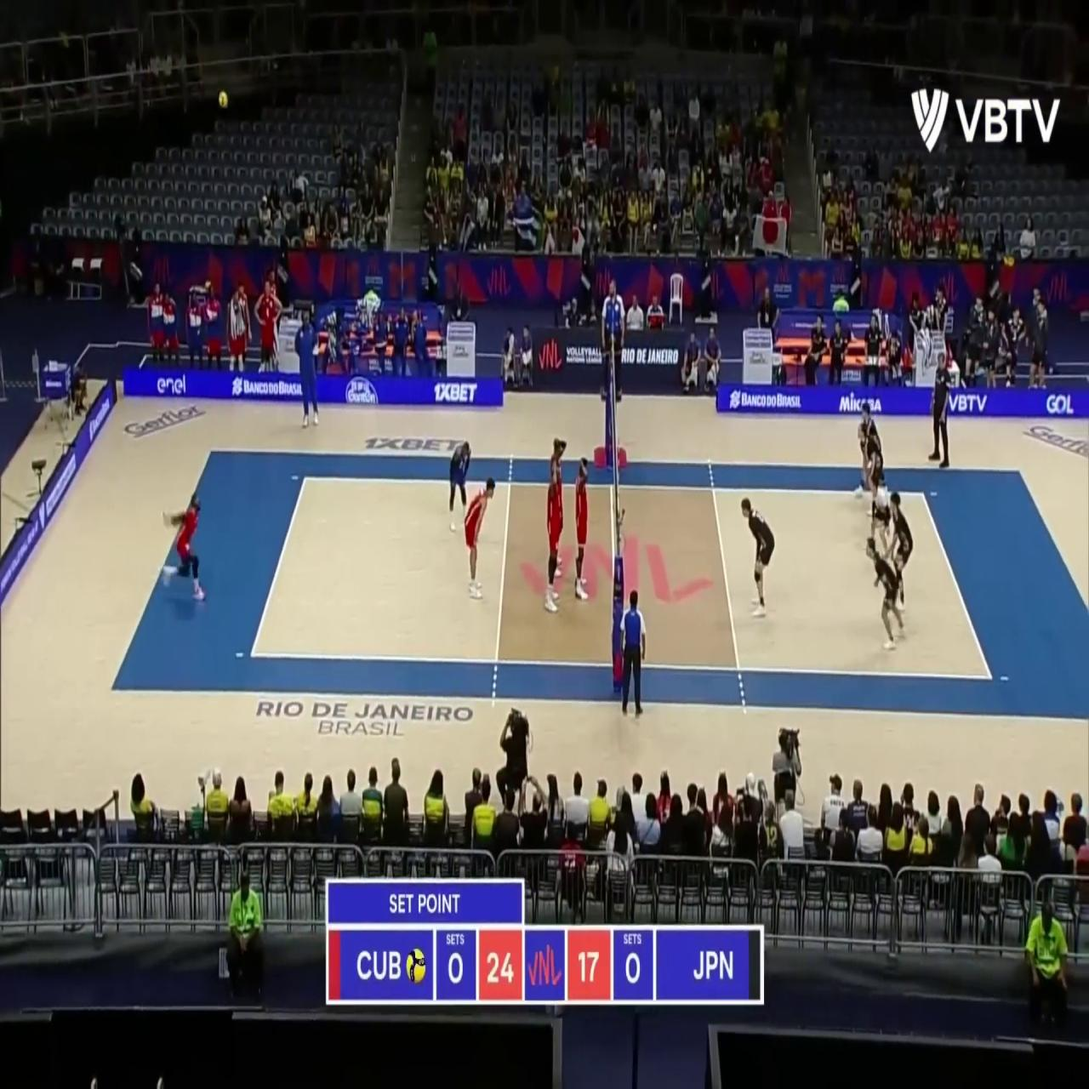ball: (219, 92, 228, 109)
